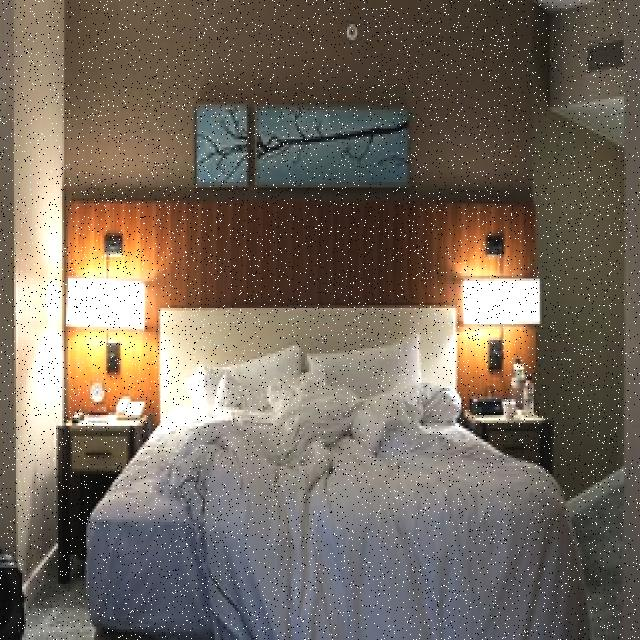bed: (86, 332, 588, 640)
